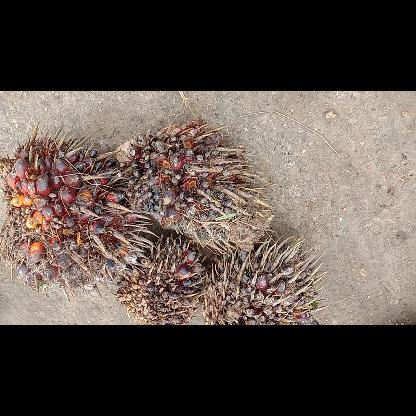TBS abnormal: (110, 118, 266, 248), (205, 234, 319, 324), (113, 234, 205, 324)
TBS masak: (0, 130, 126, 286)
